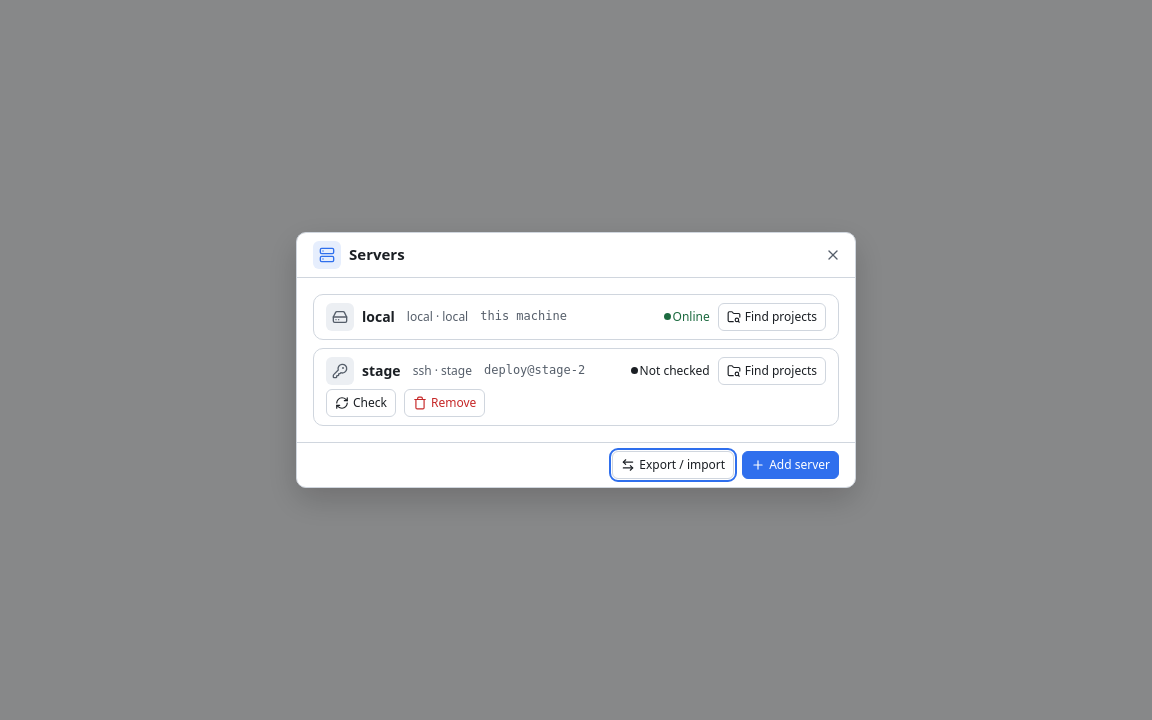
Scenario: ServersDialog › finds projects on a server and adds the chosen one
Click the button "Find projects" next to "Not checked". click: (772, 371)
box: [718,357,826,385]
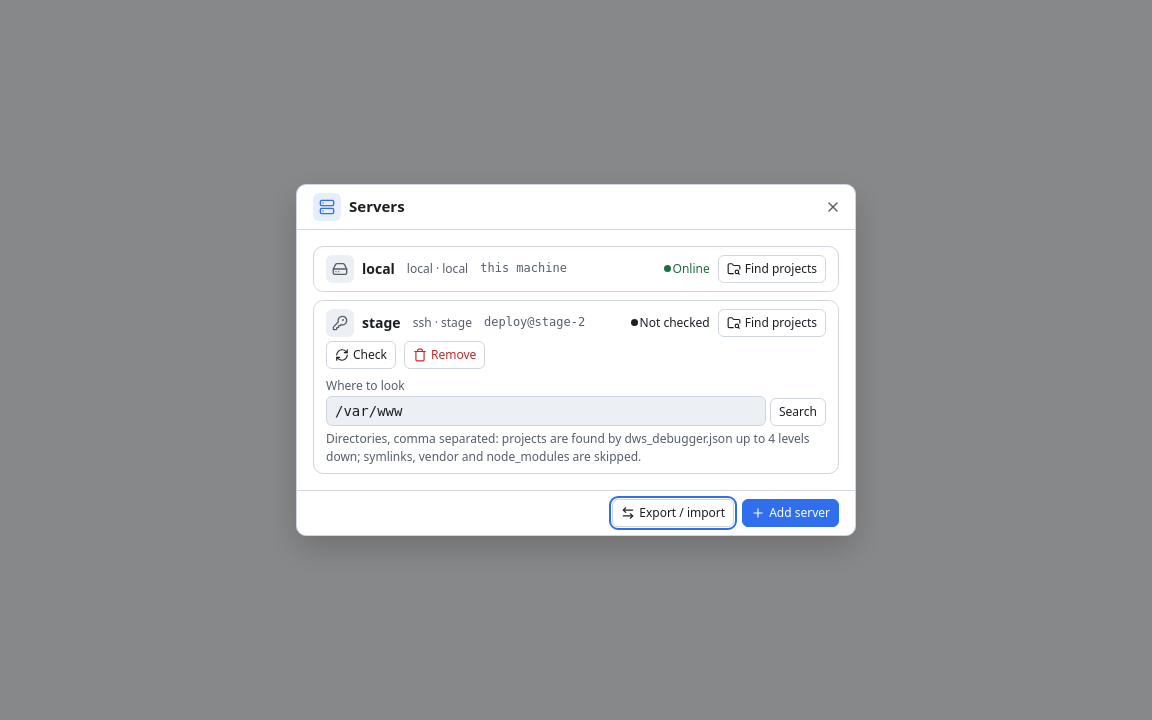
expect the field labelled "Where to look" holds "/var/www": met
Replace the text in the field labelled "Where to look" with "/var/www, /home/deploy". click: (546, 411)
box: [326,396,766,426]
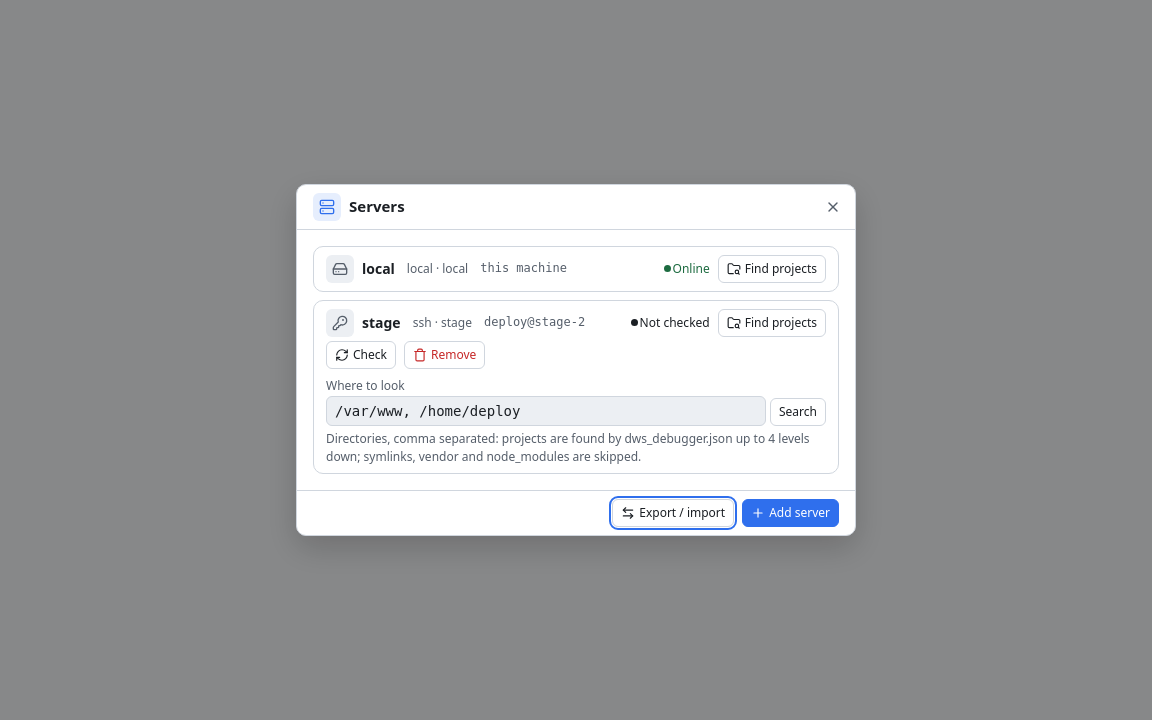
Click the button "Search". click: (798, 412)
box: [770,398,826,426]
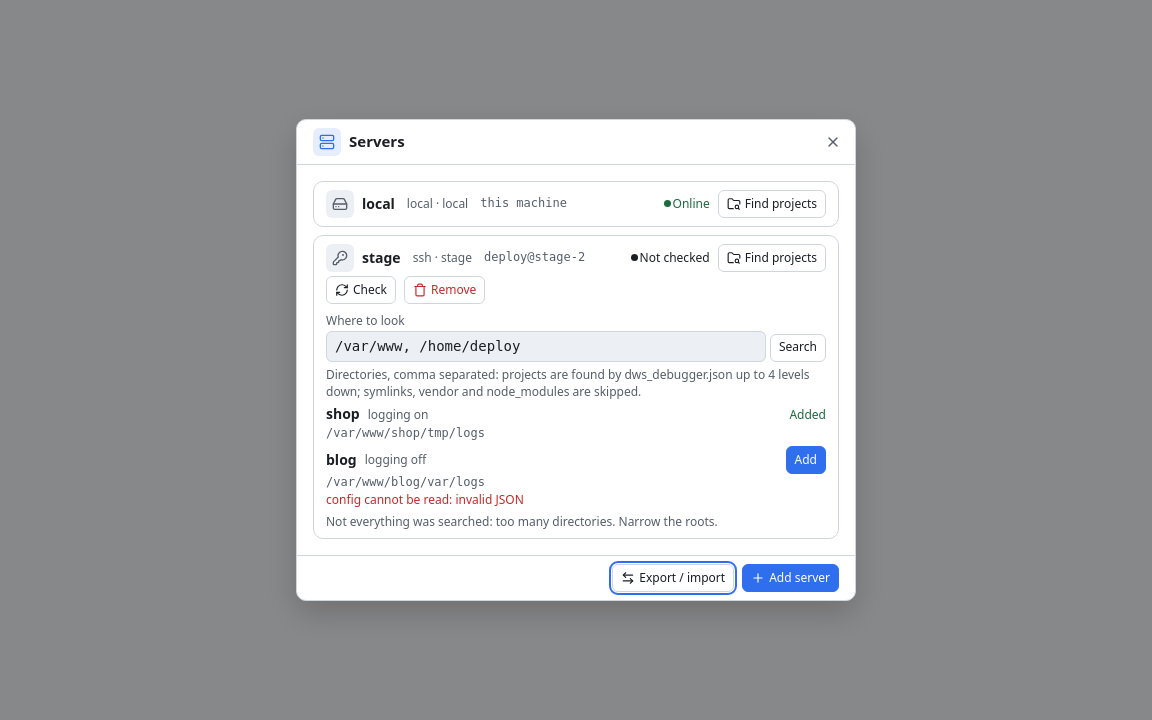
expect the list item "shop" shows "Added": met, box [789,406,826,423]
expect the list item "blog" shows "/var/www/blog/var/logs": met, box [326,475,485,489]
expect the list item "blog" shows "invalid JSON": met, box [326,491,524,508]
Click the button "Add". click: (806, 460)
box: [786,446,826,474]
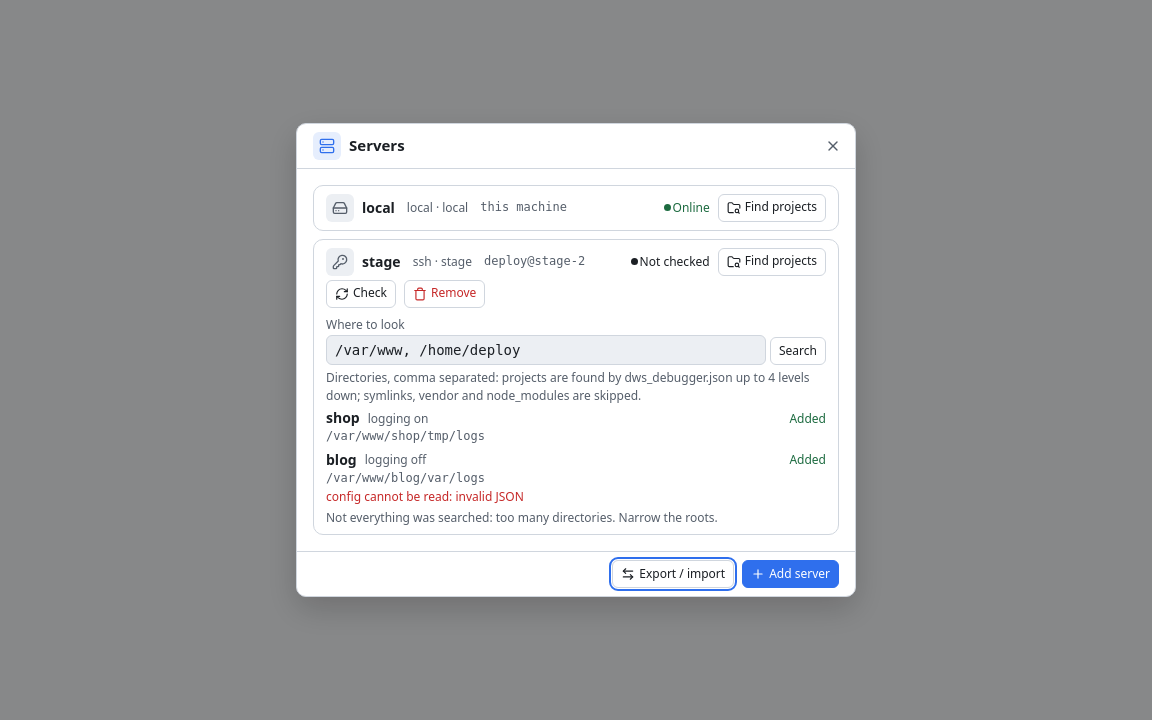
expect the text "Added" in the row of "logging off" is shown: met, box [789,451,826,468]
